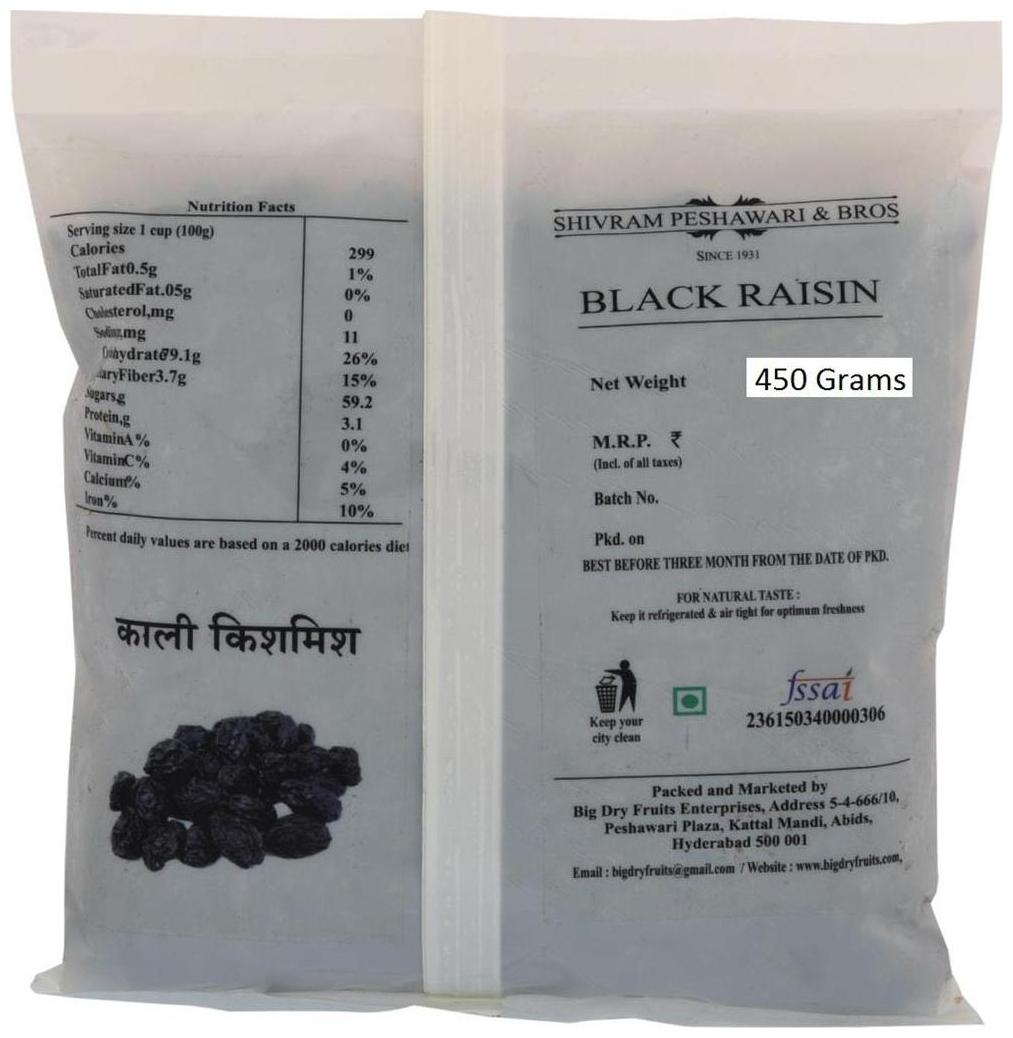fssai: (778, 668, 855, 708)
